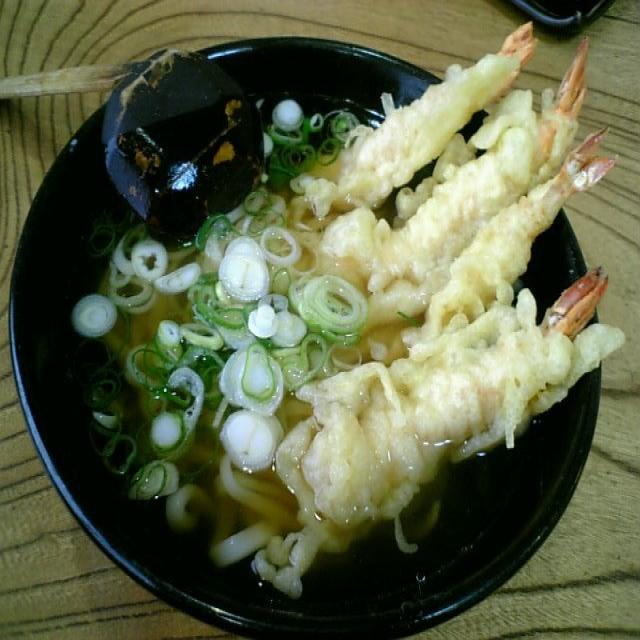面条主食: (60, 22, 618, 590)
